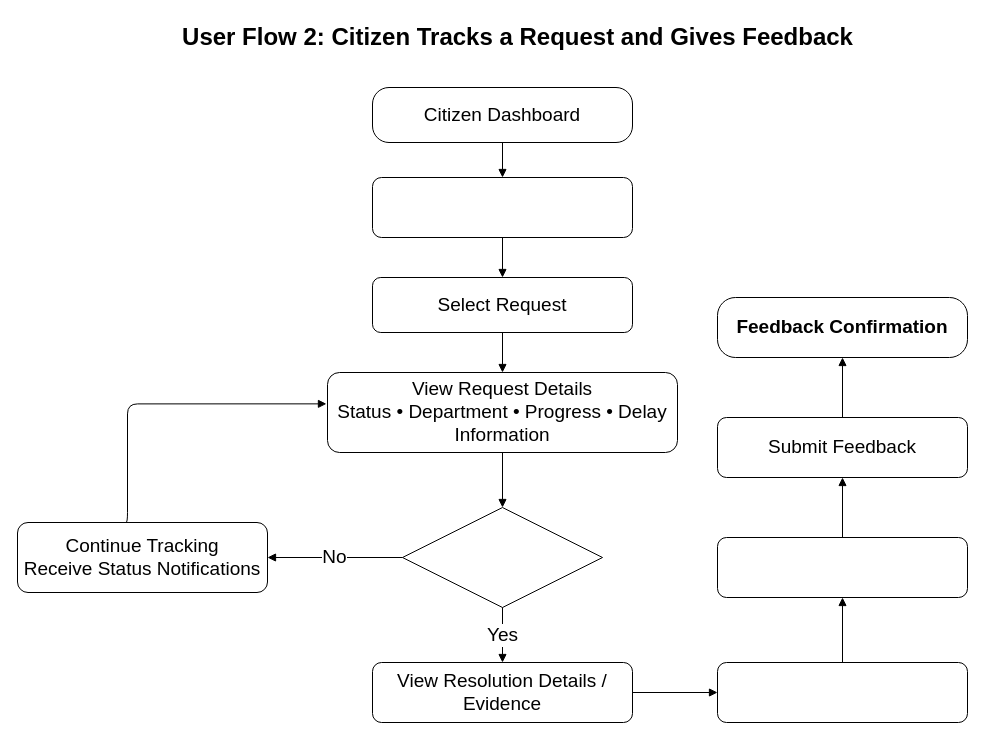
The diagram is 985 pixels wide and 740 high, and some of its shapes have lost their labels. The box of each missing label's shape, as (x1, y1, x2, y2) in pixels:
Open My Requests / Track Request: (372, 176, 632, 238)
Rate Service and Add Comment: (716, 536, 968, 598)
Request Resolved?: (402, 506, 602, 608)
Select Provide Feedback: (716, 662, 968, 722)
